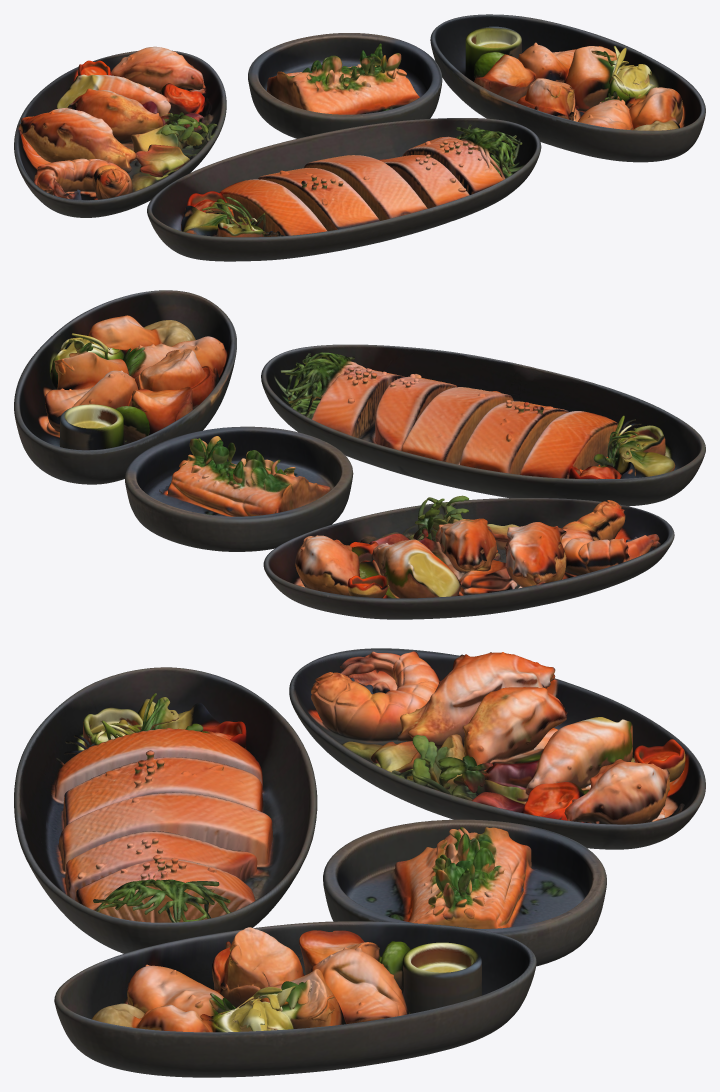
Rendered from Gyoza.glb.
The picture shows the model from 3 angles, top to bottom: view 1: azimuth 30°, elevation 25°; view 2: azimuth 150°, elevation 25°; view 3: azimuth 270°, elevation 25°; orthographic projection. The views are drawn at different scales.
Parts seen in each view (by area): view 1: tripo_node_83b9590f-bb26-411d-a451-21a24b0ef688; view 2: tripo_node_83b9590f-bb26-411d-a451-21a24b0ef688; view 3: tripo_node_83b9590f-bb26-411d-a451-21a24b0ef688.
Part boxes in pixels (left/top/right/bottom): tripo_node_83b9590f-bb26-411d-a451-21a24b0ef688: left=14, top=14, right=705, bottom=261; tripo_node_83b9590f-bb26-411d-a451-21a24b0ef688: left=14, top=290, right=705, bottom=619; tripo_node_83b9590f-bb26-411d-a451-21a24b0ef688: left=14, top=648, right=705, bottom=1077.
Bounding box in the file's own units: 0.294 × 0.0272 × 0.2131.
Materials: 1 (1 with a texture image).
